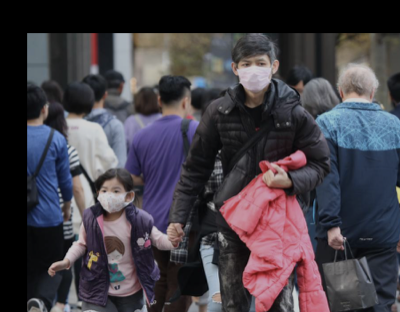with_mask: (235, 57, 274, 91), (96, 185, 126, 214)
